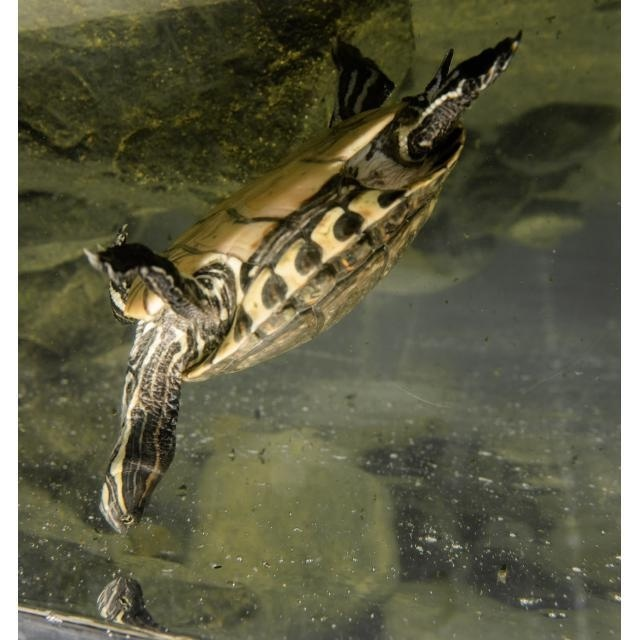turtle: (82, 29, 523, 535)
